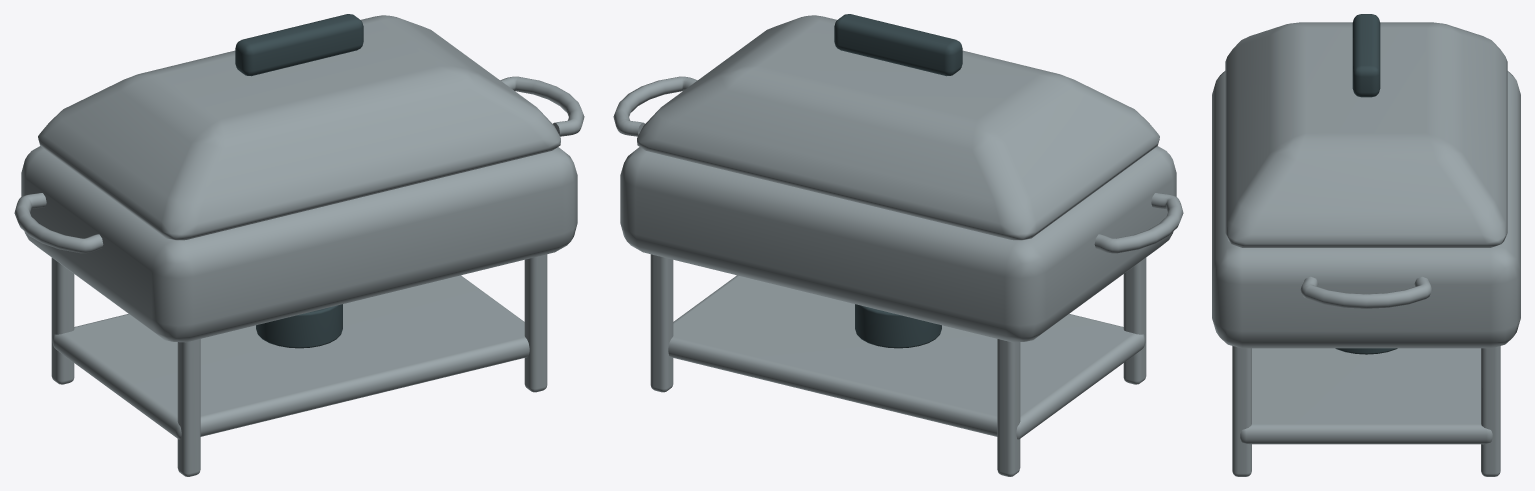
The model's file is HotelTogether-ChafingDish.glb.
3 views of the same model, side by side, from view 1: azimuth 30°, elevation 25°; view 2: azimuth 150°, elevation 25°; view 3: azimuth 270°, elevation 25° (orthographic).
Parts seen in each view (by area): view 1: Chafer_Lid, Chafer_Pan, Chafer_Bottom, Chafer_LidHandle, Chafer_Leg, Chafer_Leg.002, Chafer_Burner, Chafer_Leg.001, Chafer_SideHandle, Chafer_SideHandle.001; view 2: Chafer_Lid, Chafer_Pan, Chafer_Bottom, Chafer_LidHandle, Chafer_Leg.001, Chafer_Leg.003, Chafer_Burner, Chafer_Leg, Chafer_SideHandle, Chafer_SideHandle.001; view 3: Chafer_Lid, Chafer_Pan, Chafer_Bottom, Chafer_Leg.002, Chafer_Leg.003, Chafer_LidHandle, Chafer_SideHandle.001.
Part boxes in pixels (x1,y1,x2,y2): Chafer_Lid: (38,15,560,240); Chafer_Pan: (21,146,577,342); Chafer_Bottom: (52,275,529,439); Chafer_LidHandle: (235,14,363,76); Chafer_Leg: (177,339,200,476); Chafer_Leg.002: (524,254,547,392); Chafer_Burner: (256,304,342,348); Chafer_Leg.001: (51,258,74,384); Chafer_SideHandle: (14,193,103,253); Chafer_SideHandle.001: (500,76,584,136); Chafer_Lid: (637,15,1159,240); Chafer_Pan: (620,146,1176,342); Chafer_Bottom: (668,275,1145,439); Chafer_LidHandle: (834,14,962,76); Chafer_Leg.001: (997,339,1020,476); Chafer_Leg.003: (650,254,673,392); Chafer_Burner: (855,304,941,348); Chafer_Leg: (1123,258,1146,384); Chafer_SideHandle: (1094,193,1183,253); Chafer_SideHandle.001: (613,76,697,136); Chafer_Lid: (1225,22,1507,247); Chafer_Pan: (1212,71,1520,348); Chafer_Bottom: (1240,348,1492,444); Chafer_Leg.002: (1232,346,1251,476); Chafer_Leg.003: (1481,346,1500,476); Chafer_LidHandle: (1352,14,1380,97); Chafer_SideHandle.001: (1300,276,1432,308).
Bounding box in the file's own units: 0.7227 × 0.452 × 0.36.
